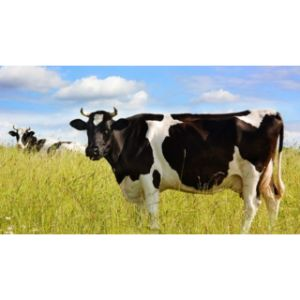cow: (70, 108, 289, 234), (7, 121, 69, 157)
